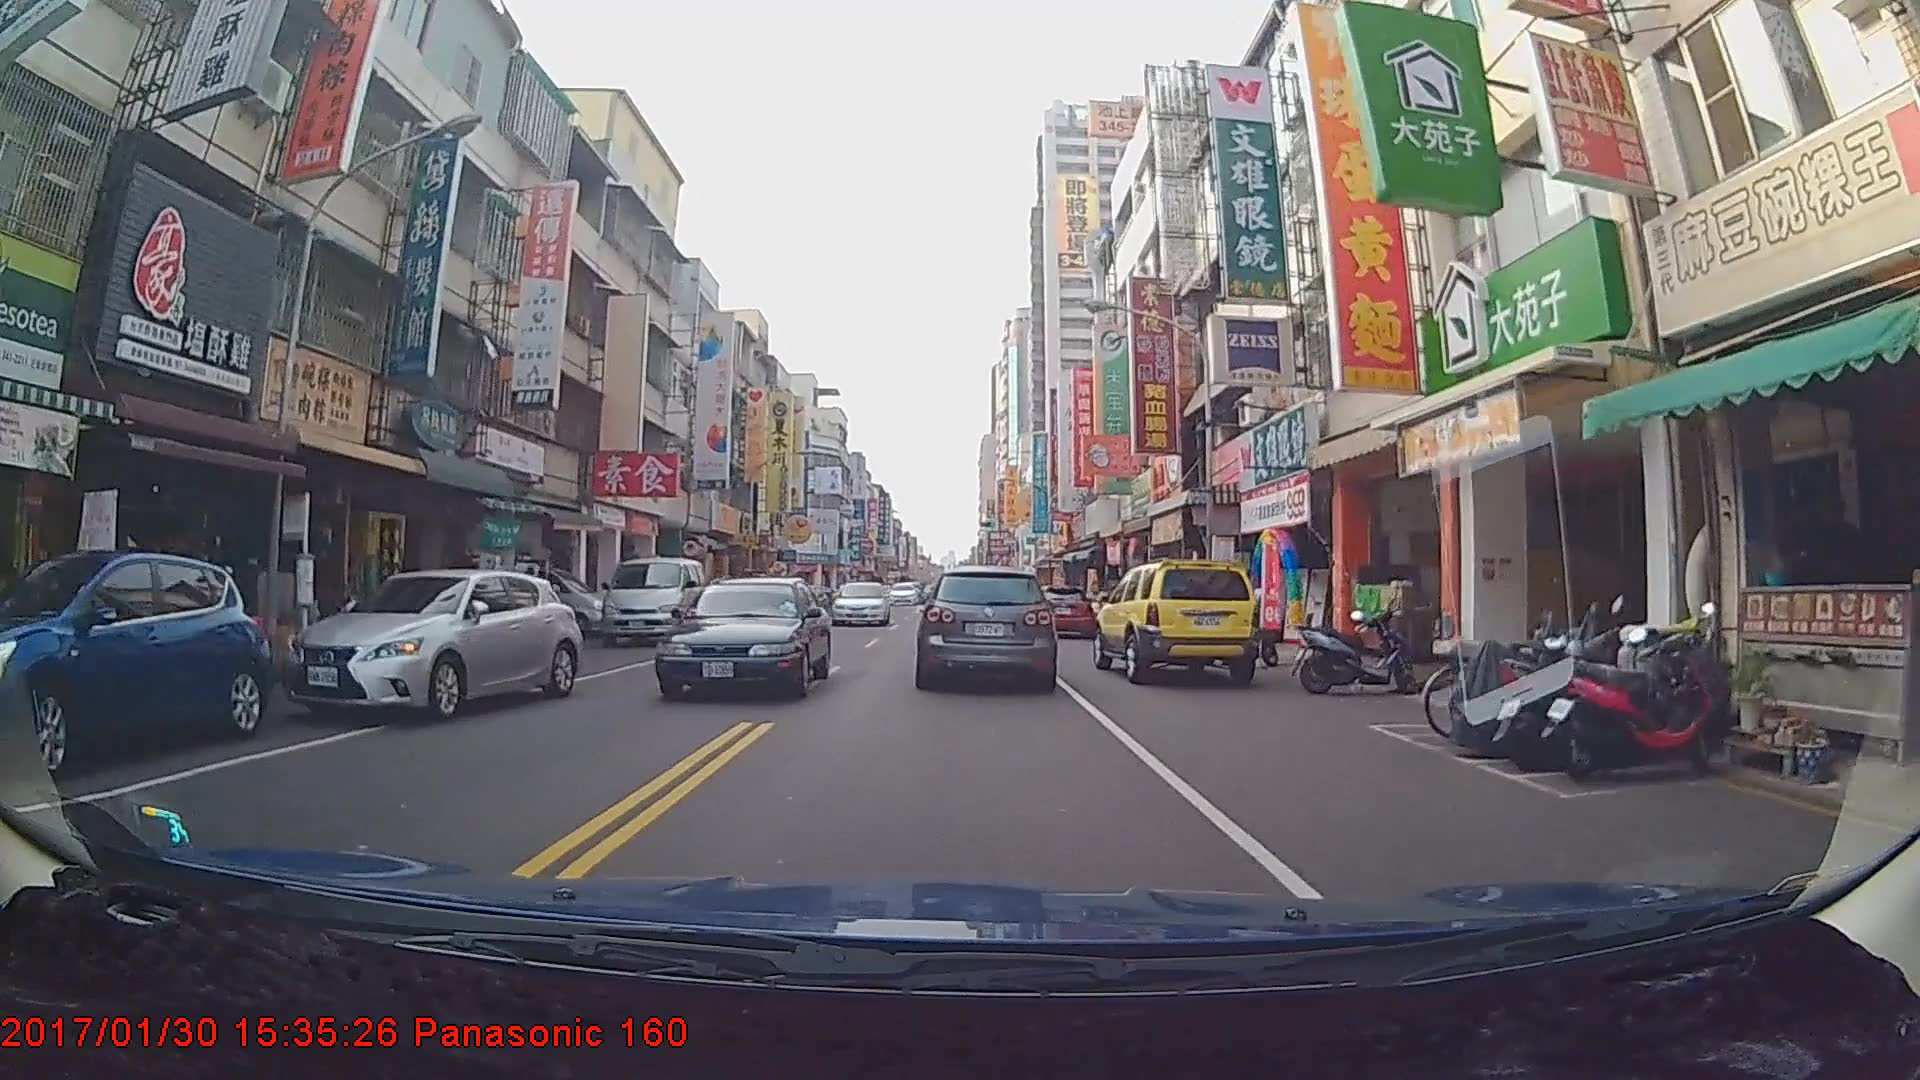vehicle: (0, 549, 272, 773), (276, 566, 582, 723), (650, 574, 833, 707), (1095, 553, 1262, 680), (916, 564, 1055, 690), (600, 556, 708, 644), (1029, 584, 1095, 638), (829, 582, 889, 628), (890, 582, 919, 607)
